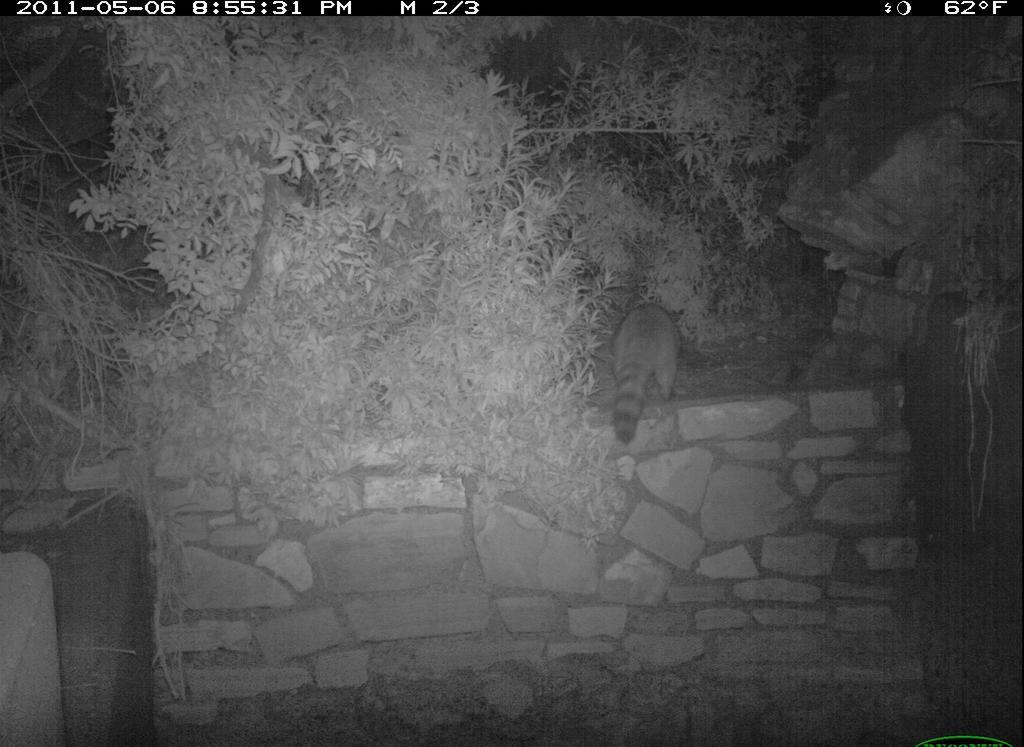raccoon: (598, 287, 696, 447)
